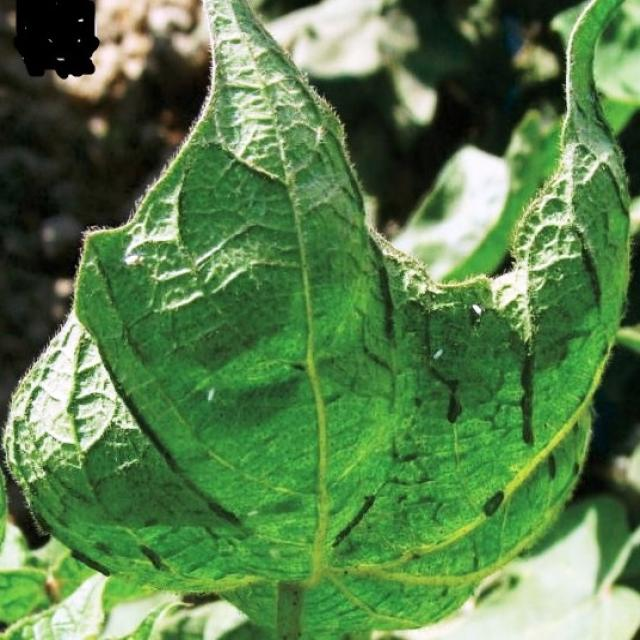Leaf Curl Virus: (230, 24, 639, 440)
